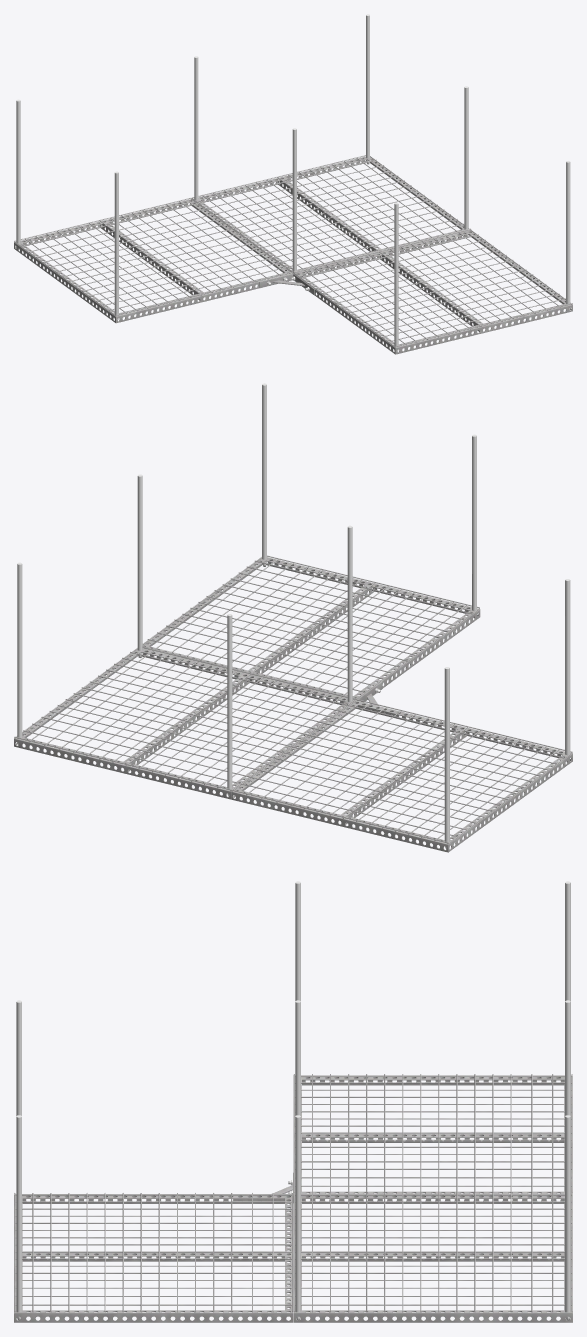
The model's file is PTL24.glb.
The picture shows the model from 3 angles, top to bottom: view 1: azimuth 30°, elevation 25°; view 2: azimuth 150°, elevation 25°; view 3: azimuth 270°, elevation 25°; orthographic projection. The views are drawn at different scales.
Visible parts, largest first — view 1: Shelf.003, Plane010.003; view 2: Shelf.003, Plane010.003; view 3: Shelf.003, Plane010.003.
Boxes of the visible parts, x1,y1,x2,y2 form: Shelf.003: (14, 155, 572, 354); Plane010.003: (16, 14, 570, 352); Shelf.003: (14, 555, 572, 852); Plane010.003: (17, 383, 570, 849); Shelf.003: (14, 1074, 572, 1322); Plane010.003: (16, 881, 570, 1320).
Bounding box in the file's own units: 62.24 × 24.95 × 61.88.
2 materials, 2 textured.
